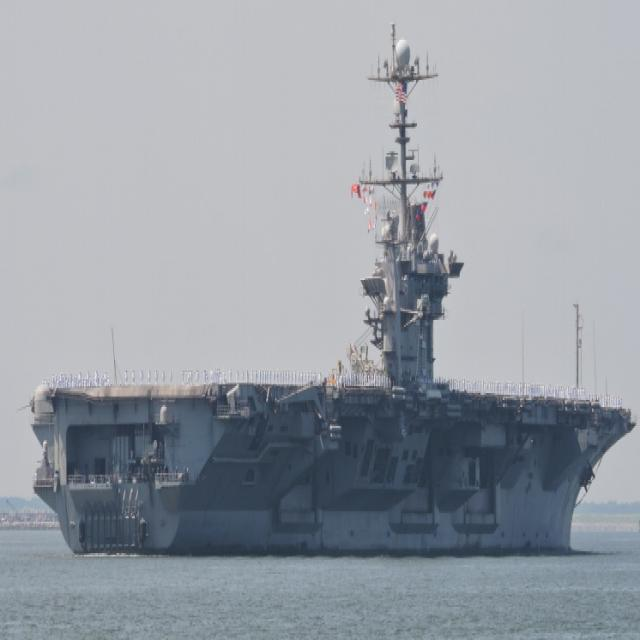Portanaves: (23, 20, 640, 559)
